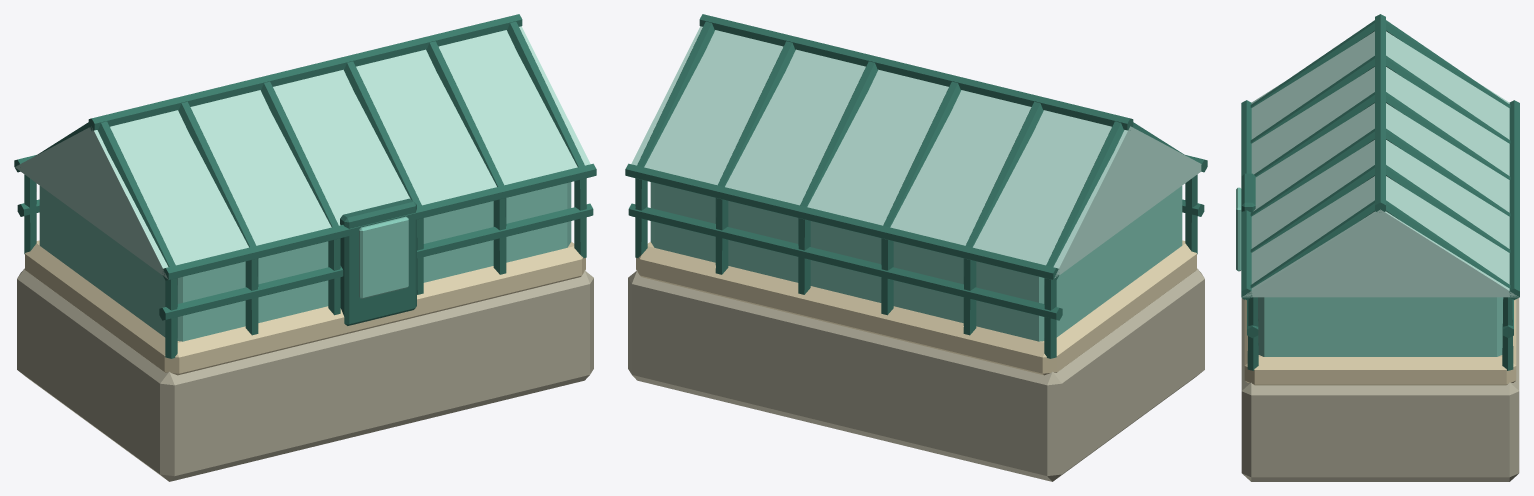
Rendered from ns-glasshouse.glb.
The picture shows the model from 3 angles, left to right: view 1: azimuth 30°, elevation 25°; view 2: azimuth 150°, elevation 25°; view 3: azimuth 270°, elevation 25°; orthographic projection. The views are drawn at different scales.
Visible parts, largest first — view 1: Pitched roof, Cube, Cube.001, Cube.002, Tapered form.016, Tapered form.014, Cube.003, Tapered form.012, Cube.004, Tapered form, Tapered form.008, Tapered form.002 (+4 smaller); view 2: Pitched roof, Cube, Cube.001, Cube.002, Tapered form.015, Tapered form.013, Tapered form.016, Tapered form.001, Tapered form.003, Tapered form.009, Tapered form.011, Tapered form.007 (+2 smaller); view 3: Pitched roof, Cube, Cube.001, Cube.002, Tapered form.016, Tapered form.015, Tapered form.014, Tapered form.011, Tapered form.010, Tapered form.003, Tapered form.005, Tapered form.001 (+9 smaller).
Part boxes in pixels (box(x1,y1,x2,y2)): Pitched roof: box(15, 26, 590, 279); Cube: box(17, 268, 593, 481); Cube.001: box(39, 182, 571, 341); Cube.002: box(25, 240, 585, 375); Tapered form.016: box(88, 14, 522, 130); Tapered form.014: box(162, 163, 596, 280); Cube.003: box(340, 198, 416, 325); Tapered form.012: box(159, 203, 593, 320); Cube.004: box(359, 216, 408, 298); Tapered form: box(97, 121, 177, 358); Tapered form.008: box(426, 41, 506, 274); Tapered form.002: box(178, 101, 258, 335); Pitched roof: box(631, 26, 1201, 278); Cube: box(628, 268, 1204, 481); Cube.001: box(650, 182, 1182, 341); Cube.002: box(636, 240, 1196, 375); Tapered form.015: box(625, 163, 1059, 280); Tapered form.013: box(628, 203, 1062, 320); Tapered form.016: box(699, 14, 1133, 130); Tapered form.001: box(1044, 121, 1124, 358); Tapered form.003: box(963, 101, 1043, 335); Tapered form.009: box(715, 41, 795, 274); Tapered form.011: box(635, 21, 714, 258); Tapered form.007: box(798, 61, 877, 294); Pitched roof: box(1242, 31, 1518, 297); Cube: box(1241, 298, 1519, 481); Cube.001: box(1258, 297, 1503, 356); Cube.002: box(1244, 299, 1516, 385); Tapered form.016: box(1375, 14, 1385, 212); Tapered form.015: box(1509, 100, 1519, 299); Tapered form.014: box(1241, 100, 1252, 299); Tapered form.011: box(1386, 200, 1513, 370); Tapered form.010: box(1247, 200, 1374, 370); Tapered form.003: box(1386, 55, 1510, 143); Tapered form.005: box(1386, 92, 1510, 179); Tapered form.001: box(1386, 20, 1510, 107).
Size of the model in its own units: 0.7 by 0.482 by 0.4392.
